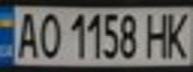1: (63, 10, 87, 58), (84, 10, 103, 58)
5: (103, 10, 121, 60)
8: (118, 10, 142, 60)
A: (12, 8, 42, 60)
H: (142, 9, 172, 60)
K: (160, 8, 193, 60)
O: (33, 9, 63, 60)
